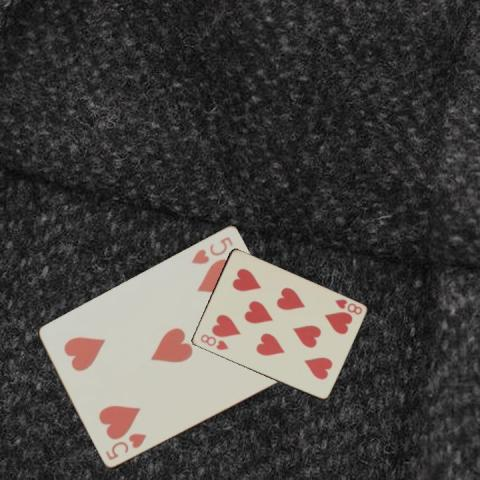5h: (188, 233, 235, 265), (102, 430, 148, 462)
8h: (197, 331, 230, 352), (332, 296, 364, 316)
